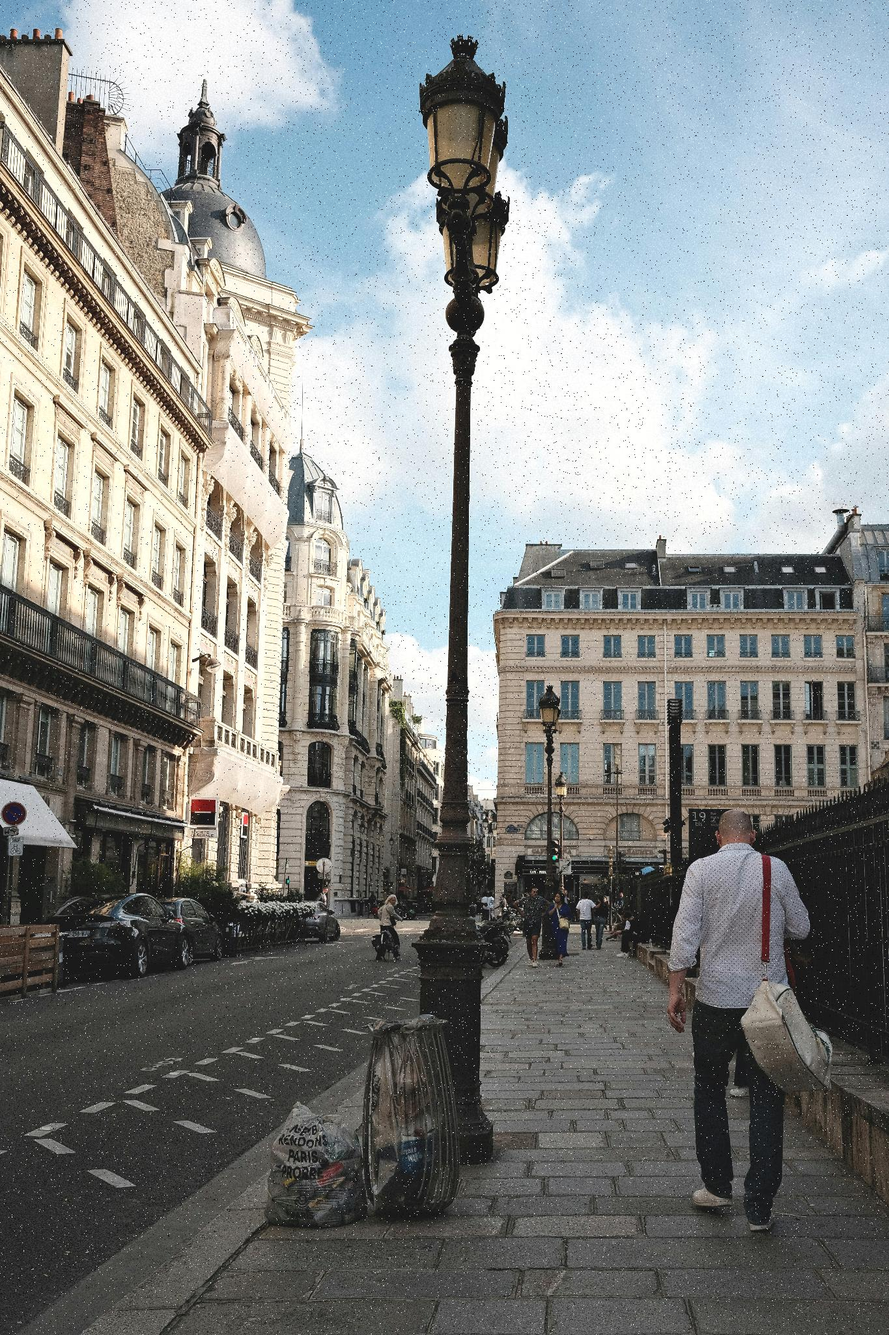car: (58, 892, 188, 982), (161, 901, 223, 966), (303, 901, 342, 944)
pedestrian: (660, 803, 808, 1233), (524, 883, 543, 968), (381, 897, 401, 964), (553, 894, 569, 963), (319, 886, 342, 931), (580, 896, 595, 953), (595, 892, 609, 947)
